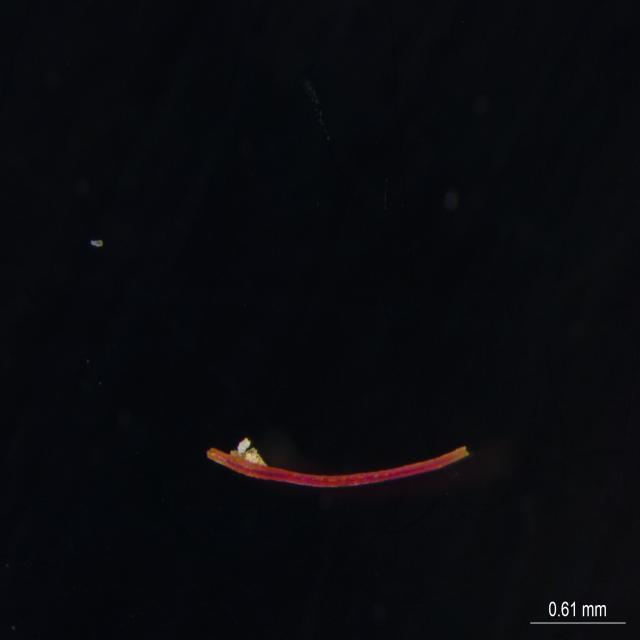fibers: (206, 437, 470, 493)
